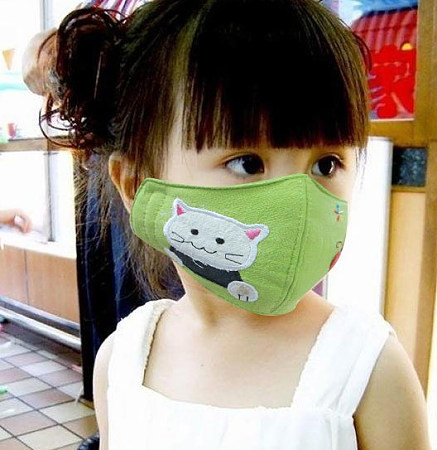face_mask: (156, 74, 358, 316)
